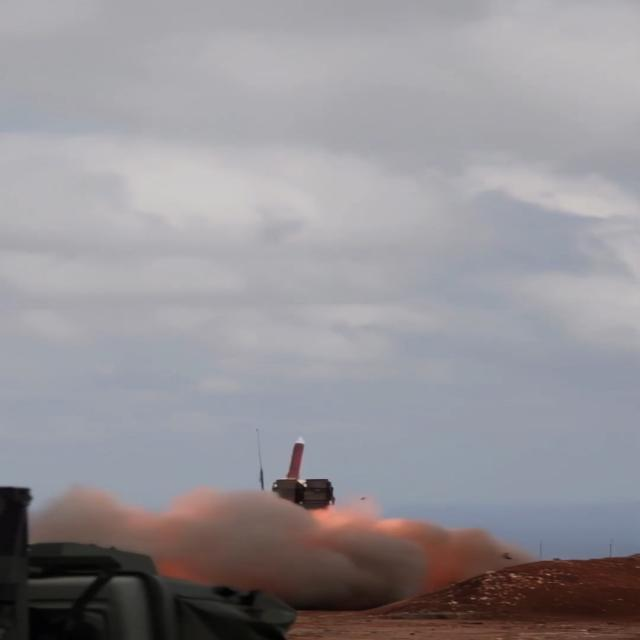missile: (282, 429, 310, 483)
